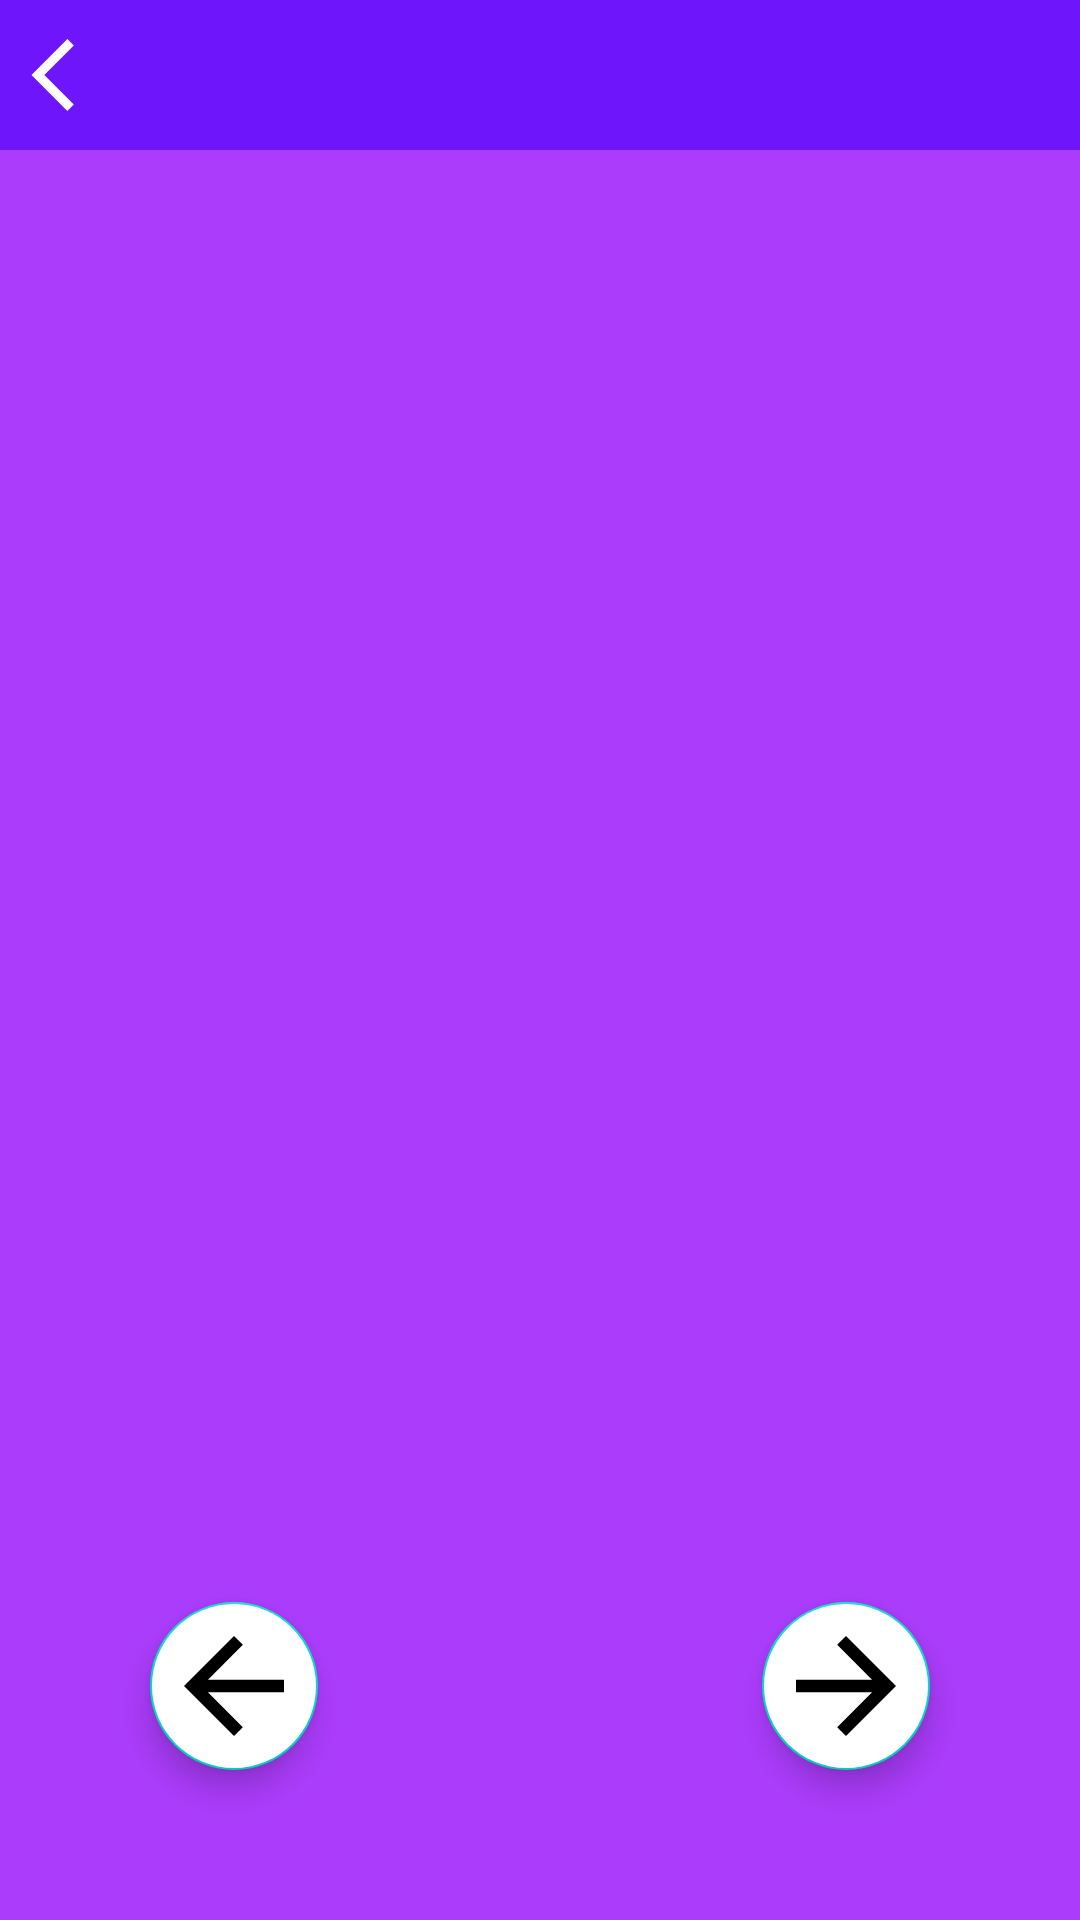

Icons on this 1080*1920 Android screen, each with its box as (x1, y1, x2, y2):
arrow forward: (762, 1602, 930, 1770)
previous: (150, 1602, 318, 1770)
